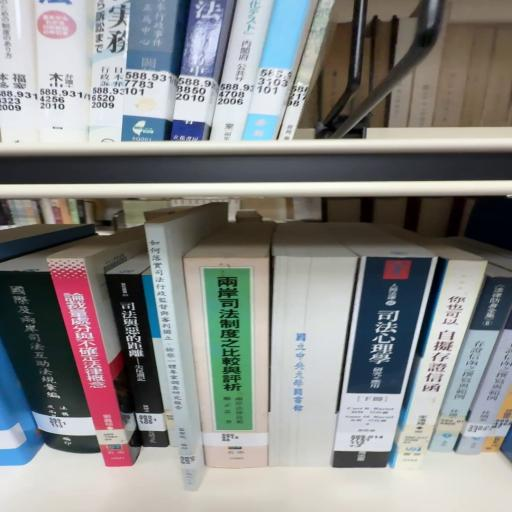backward: (269, 223, 359, 468)
book: (141, 206, 222, 493), (49, 229, 143, 463), (1, 271, 99, 457), (186, 253, 275, 437), (105, 255, 167, 463)
